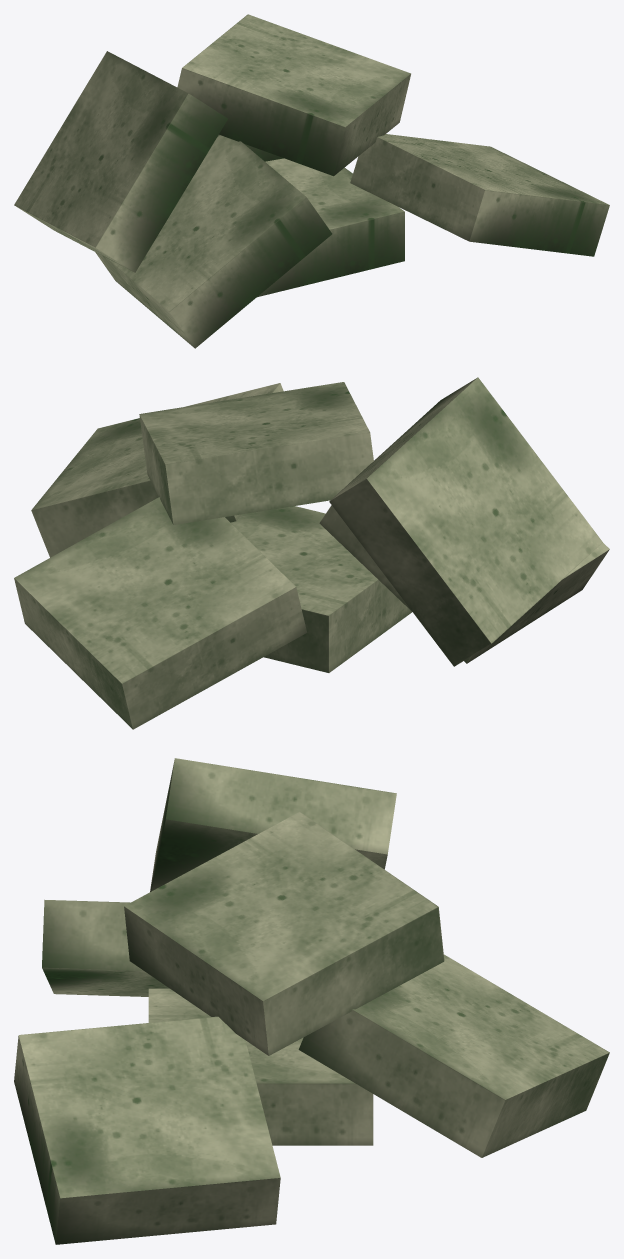
The model's file is Square Bricks.fbx.
The picture shows the model from 3 angles, top to bottom: view 1: azimuth 30°, elevation 25°; view 2: azimuth 150°, elevation 25°; view 3: azimuth 270°, elevation 25°; orthographic projection. The views are drawn at different scales.
Parts seen in each view (by area): view 1: Square Bricks; view 2: Square Bricks; view 3: Square Bricks.
Boxes of the visible parts, x1,y1,x2,y2 form: Square Bricks: (14, 14, 609, 348); Square Bricks: (14, 377, 609, 729); Square Bricks: (14, 758, 609, 1244).
Bounding box in the file's own units: 123 × 53.65 × 107.
1 material, 1 textured.
